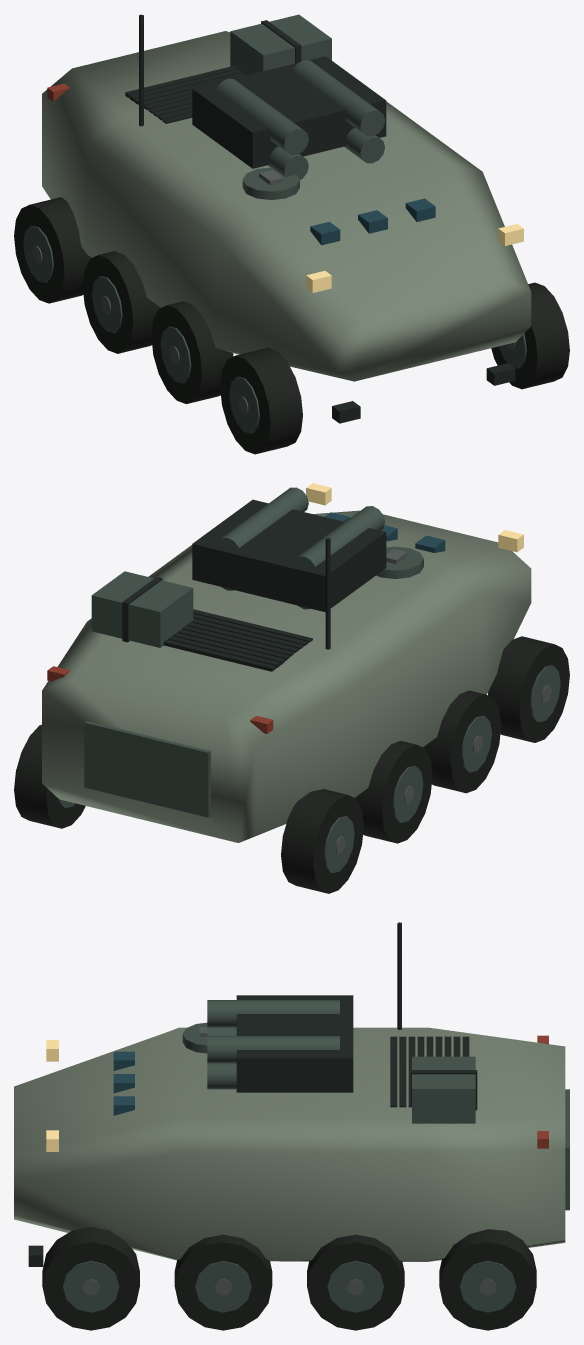
Rendered from tankDestroyer.glb.
3 views of the same model, one above another, from view 1: azimuth 30°, elevation 25°; view 2: azimuth 150°, elevation 25°; view 3: azimuth 270°, elevation 25° (orthographic). The views are drawn at different scales.
Parts seen in each view (by area): view 1: armor, rubber, dark (×2), trim (×2), stowage, glass, lamp, steel; view 2: armor, rubber, dark (×2), trim (×2), stowage, lamp, steel, glass, red; view 3: armor, rubber, trim (×2), dark (×2), stowage, glass, steel, lamp.
Part boxes in pixels (box(x1,y1,x2,y2)): armor: box(42, 31, 531, 381); rubber: box(14, 197, 569, 454); dark (×2): box(125, 14, 515, 423); trim (×2): box(23, 60, 526, 433); stowage: box(230, 14, 331, 75); glass: box(310, 198, 435, 245); lamp: box(306, 224, 523, 292); steel: box(32, 170, 515, 414); armor: box(42, 510, 531, 842); rubber: box(14, 636, 569, 893); dark (×2): box(122, 499, 386, 671); trim (×2): box(58, 487, 560, 872); stowage: box(91, 571, 193, 647); lamp: box(306, 483, 523, 552); steel: box(335, 549, 551, 853); glass: box(325, 512, 445, 552); red: box(47, 666, 273, 733); armor: box(14, 1027, 565, 1261); rubber: box(42, 1227, 536, 1330); trim (×2): box(63, 1000, 569, 1312); dark (×2): box(28, 922, 477, 1266); stowage: box(412, 1056, 475, 1123); glass: box(113, 1051, 134, 1115); steel: box(82, 1027, 496, 1295); lamp: box(46, 1040, 58, 1151).
Bounding box in the file's own units: 3.19 × 3.05 × 5.24.
